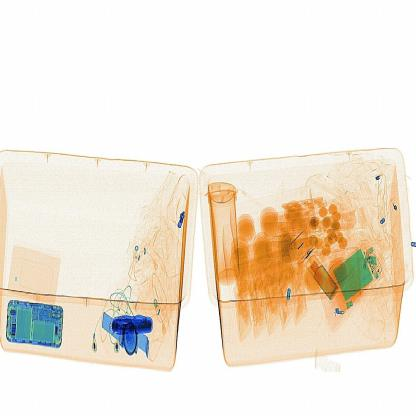scissors: (106, 307, 160, 341)
